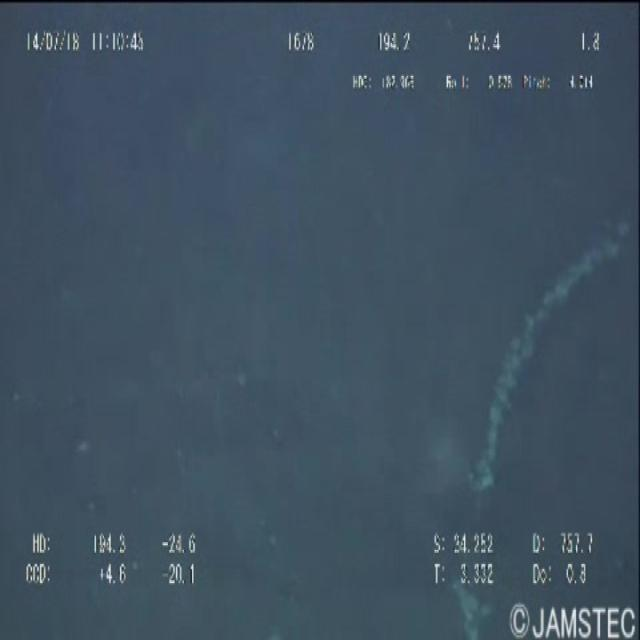Wood: (441, 215, 627, 638)
